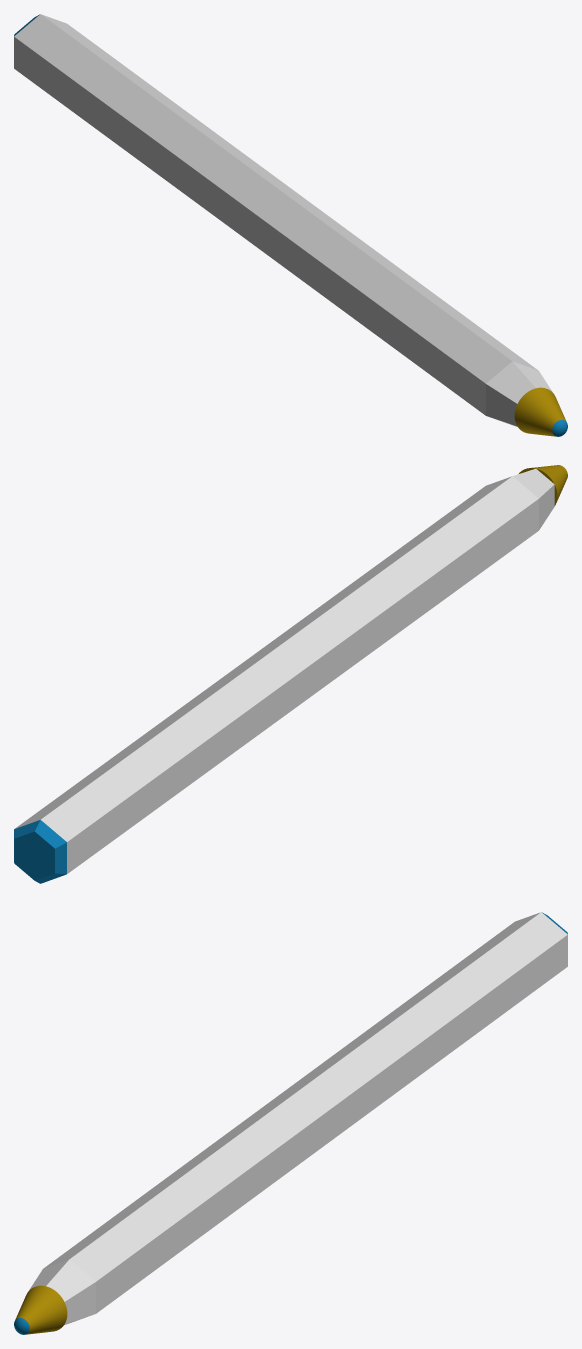
3 renders of one model, top to bottom at view 1: azimuth 30°, elevation 25°; view 2: azimuth 150°, elevation 25°; view 3: azimuth 330°, elevation 25°, orthographic.
Visible parts, largest first — view 1: Pen-3, Pen-4; view 2: Pen-3, Pen, Pen-4; view 3: Pen-3, Pen-4.
Boxes of the visible parts, x1,y1,x2,y2 form: Pen-3: (14,14,552,426); Pen-4: (514,387,566,436); Pen-3: (15,468,554,873); Pen: (14,820,66,883); Pen-4: (519,465,567,505); Pen-3: (28,912,567,1324); Pen-4: (15,1285,67,1334).
Bounding box in the file's own units: 0.0571 × 0.0679 × 0.9839.
